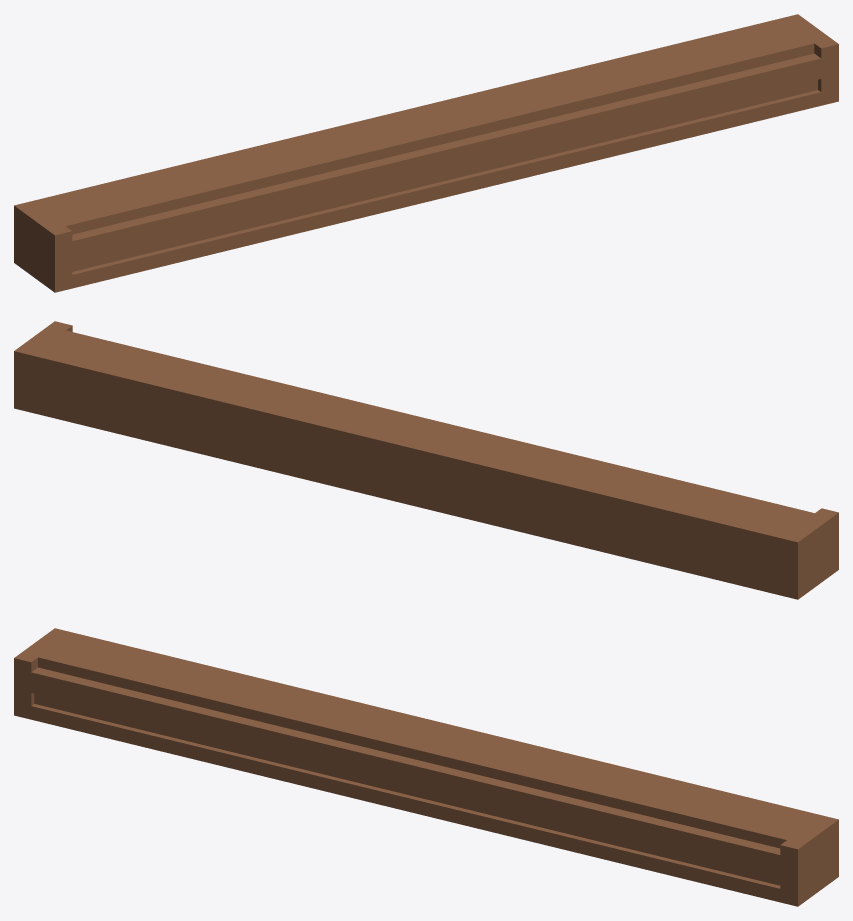
Rendered from Top_Wall.fbx.
3 views of the same model, one above another, from view 1: azimuth 30°, elevation 25°; view 2: azimuth 150°, elevation 25°; view 3: azimuth 330°, elevation 25° (orthographic).
Parts seen in each view (by area): view 1: Top_Wall; view 2: Top_Wall; view 3: Top_Wall.
Boxes of the visible parts, x1,y1,x2,y2 form: Top_Wall: (14, 14, 838, 292); Top_Wall: (14, 321, 838, 599); Top_Wall: (14, 628, 838, 906).
Size of the model in its own units: 10 by 0.6992 by 0.9042.
